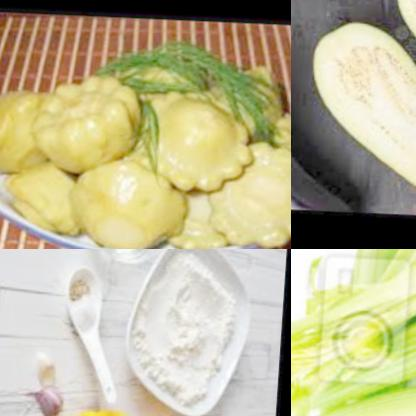celery: (291, 249, 416, 416), (340, 249, 416, 416), (291, 357, 416, 416)
eggplant: (291, 18, 416, 212), (291, 75, 397, 208)
garlic: (32, 352, 71, 416)
squash-patisson: (18, 66, 145, 172), (134, 90, 261, 184), (77, 147, 194, 249), (213, 130, 291, 249), (5, 158, 92, 236), (0, 73, 54, 181), (266, 92, 291, 183)
